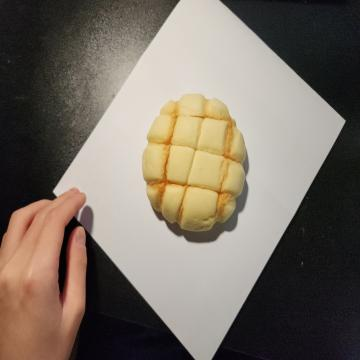melon_bread: (142, 96, 248, 232)
